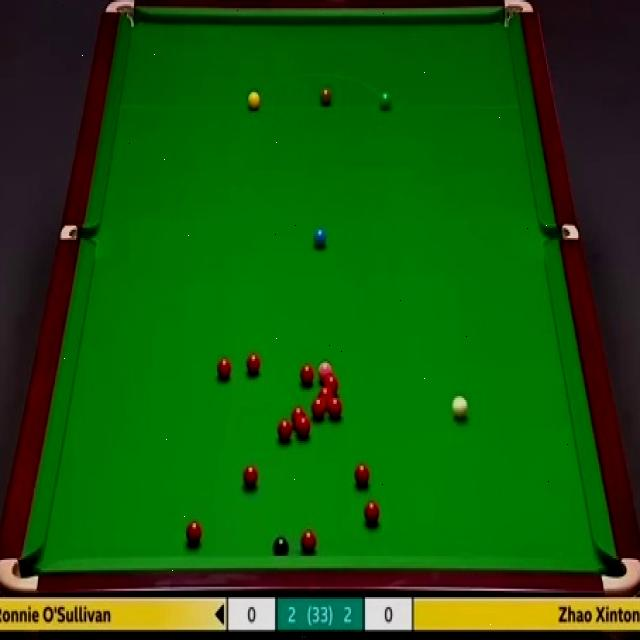black-ball: (272, 534, 290, 556)
blue-ball: (313, 229, 327, 246)
brown-ball: (320, 88, 332, 106)
green-ball: (378, 89, 393, 111)
pink-ball: (318, 361, 333, 382)
red-ball: (353, 461, 371, 487), (322, 373, 339, 398), (185, 522, 202, 546), (246, 349, 262, 374), (364, 501, 380, 526), (297, 365, 315, 386), (277, 418, 292, 442), (216, 359, 233, 380), (243, 464, 258, 486), (328, 396, 343, 417), (302, 532, 317, 553), (297, 416, 310, 436), (312, 397, 325, 417), (292, 407, 305, 426)
white-ball: (452, 394, 468, 424)
yellow-ball: (248, 90, 260, 111)
